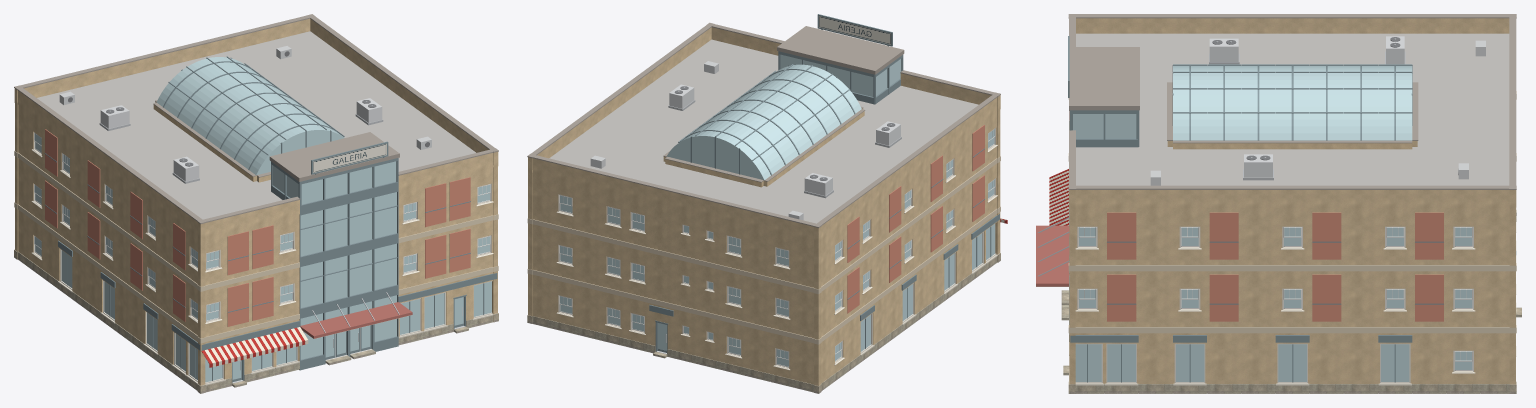
Rendered from building_assembled.glb.
3 views of the same model, side by side, from view 1: azimuth 30°, elevation 25°; view 2: azimuth 150°, elevation 25°; view 3: azimuth 270°, elevation 25° (orthographic). The views are drawn at different scales.
Parts seen in each view (by area): view 1: building_render, building_glass, building_roof, building_panel, building_frame2, building_coping, building_band, building_stone, building_frame, building_canvas, building_fascia, building_canopy (+6 smaller); view 2: building_render, building_roof, building_glass, building_coping, building_band, building_frame2, building_panel, building_stone, building_sash, building_frame, building_trim, building_unit (+3 smaller); view 3: building_render, building_roof, building_glass, building_coping, building_panel, building_band, building_frame2, building_stone, building_frame, building_canopy, building_unit, building_sash (+6 smaller).
Part boxes in pixels (<box>): building_render: <box>14,18,498,385</box>; building_glass: <box>34,57,491,382</box>; building_roof: <box>37,31,475,219</box>; building_panel: <box>45,129,470,326</box>; building_frame2: <box>44,56,484,382</box>; building_coping: <box>14,14,498,224</box>; building_band: <box>14,150,498,343</box>; building_stone: <box>14,249,498,393</box>; building_frame: <box>33,132,492,383</box>; building_canvas: <box>201,327,308,367</box>; building_fascia: <box>58,240,497,350</box>; building_canopy: <box>300,302,412,338</box>; building_render: <box>528,27,1000,385</box>; building_roof: <box>549,39,978,223</box>; building_glass: <box>560,54,995,366</box>; building_coping: <box>527,22,1000,227</box>; building_band: <box>527,156,1000,344</box>; building_frame2: <box>655,14,991,353</box>; building_panel: <box>847,125,984,313</box>; building_stone: <box>527,253,1000,393</box>; building_sash: <box>559,128,995,367</box>; building_frame: <box>558,128,996,368</box>; building_trim: <box>556,144,999,370</box>; building_unit: <box>669,84,900,195</box>; building_render: <box>1069,18,1516,384</box>; building_roof: <box>1076,33,1509,185</box>; building_glass: <box>1073,65,1472,381</box>; building_coping: <box>1068,14,1516,189</box>; building_panel: <box>1069,110,1443,321</box>; building_band: <box>1068,91,1516,333</box>; building_frame2: <box>1068,36,1443,382</box>; building_stone: <box>1061,209,1521,393</box>; building_frame: <box>1075,226,1473,383</box>; building_canopy: <box>1036,225,1069,286</box>; building_unit: <box>1209,36,1404,177</box>; building_sash: <box>1078,227,1472,370</box>.
Size of the model in its own units: 24.2 by 16.1 by 28.4.
24 materials, 5 textured.
